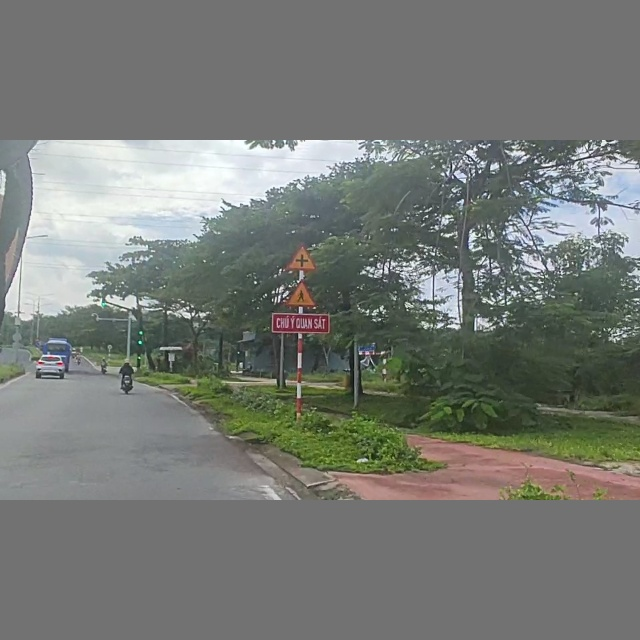W.205a: (286, 244, 320, 272)
W.224: (284, 279, 320, 309)
